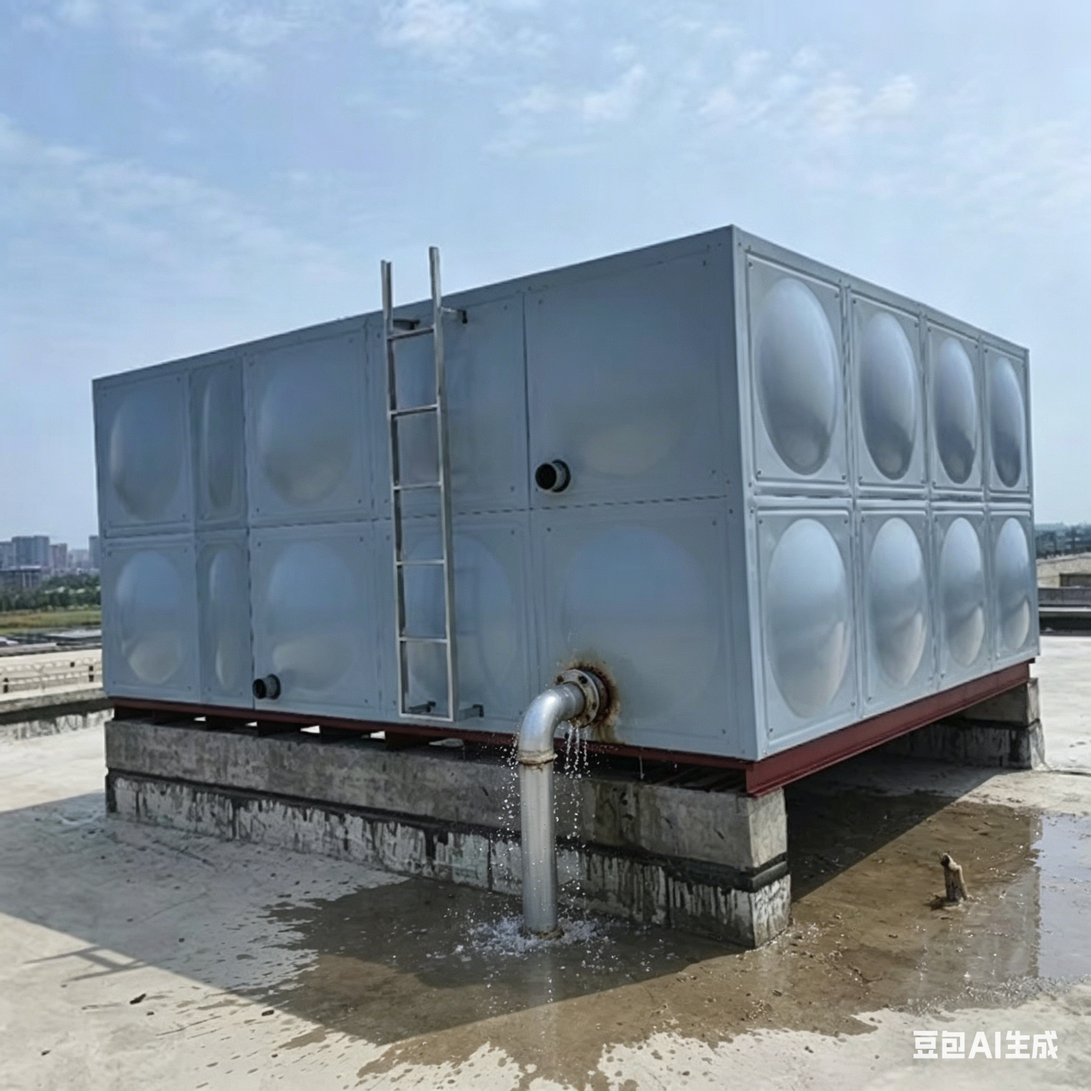Leakage: (427, 656, 642, 1055), (796, 794, 1091, 1025), (291, 868, 423, 1057), (654, 923, 802, 1041)
